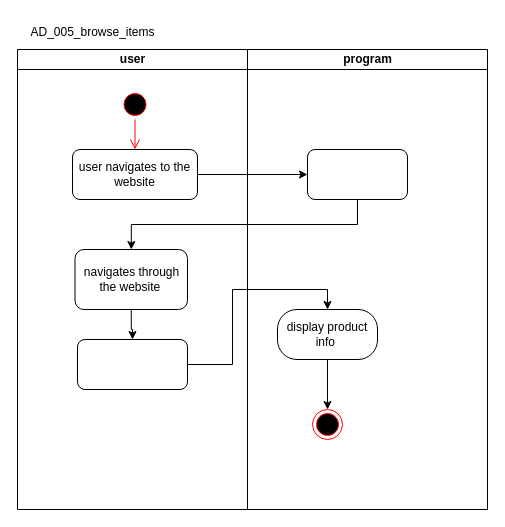
Image size: 505x527. Some labels were removed from this diagram. The centre of each missing label's shape, as x and y in pixels:
"display products and offers" belongs at [357,174].
"selects a certain product" belongs at [132,364].
